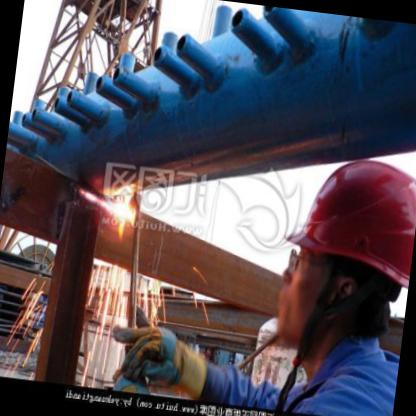bee: (251, 113, 416, 377)
